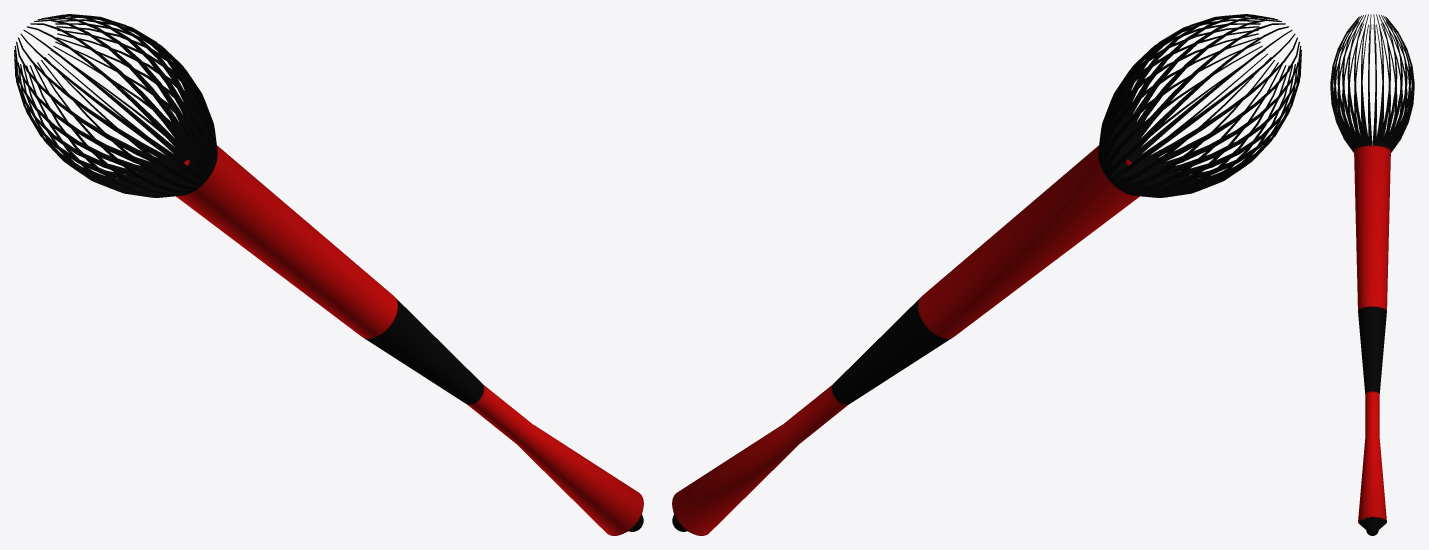
The model's file is Cuesmallrot.fbx.
3 views of the same model, side by side, from view 1: azimuth 30°, elevation 25°; view 2: azimuth 150°, elevation 25°; view 3: azimuth 270°, elevation 25° (orthographic). The views are drawn at different scales.
Visible parts, largest first — view 1: Oil_Tank_1; view 2: Oil_Tank_1; view 3: Oil_Tank_1.
Part boxes in pixels (<box>): Oil_Tank_1: <box>14,14,643,535</box>; Oil_Tank_1: <box>672,14,1301,535</box>; Oil_Tank_1: <box>1330,14,1414,535</box>.
Bounding box in the file's own units: 126 × 126 × 26.54.
Materials: 1 (1 with a texture image).
